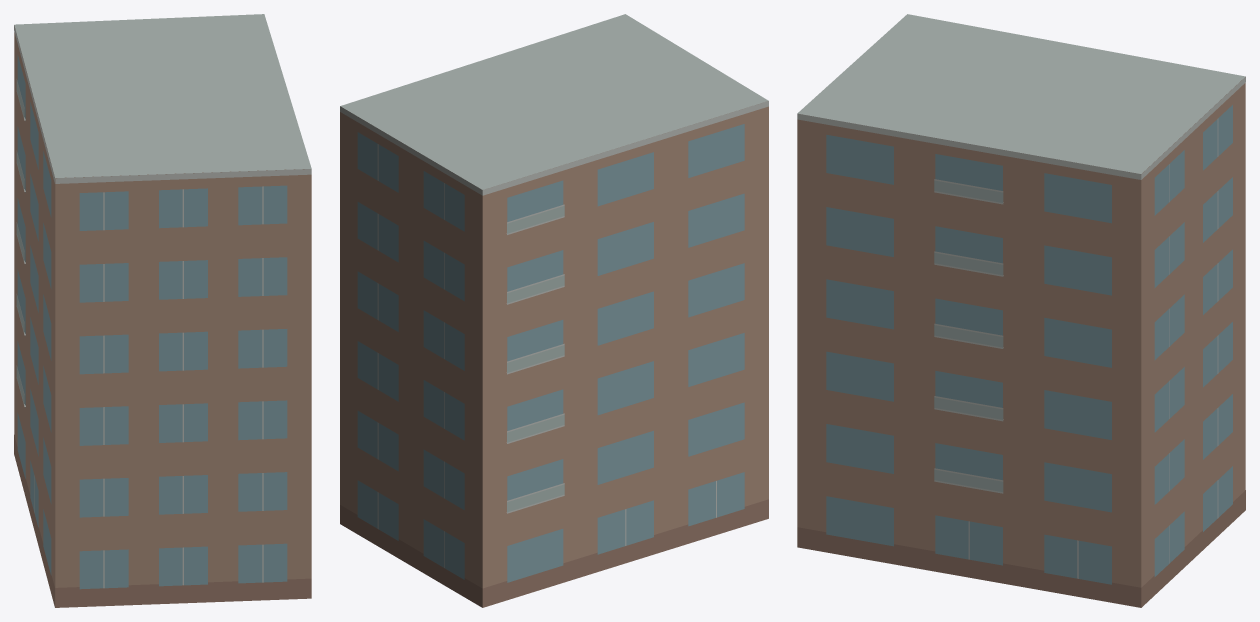
Rendered from survey-upis-32925258.glb.
3 views of the same model, side by side, from view 1: azimuth 30°, elevation 25°; view 2: azimuth 150°, elevation 25°; view 3: azimuth 270°, elevation 25° (orthographic). The views are drawn at different scales.
Visible parts, largest first — view 1: survey-upis-32925258.tmp; view 2: survey-upis-32925258.tmp; view 3: survey-upis-32925258.tmp.
Part boxes in pixels (x1=…): survey-upis-32925258.tmp: x1=14, y1=14, x2=311, y2=607; survey-upis-32925258.tmp: x1=340, y1=14, x2=768, y2=607; survey-upis-32925258.tmp: x1=797, y1=14, x2=1245, y2=607.
Bounding box in the file's own units: 14.18 × 17.9 × 16.79.
